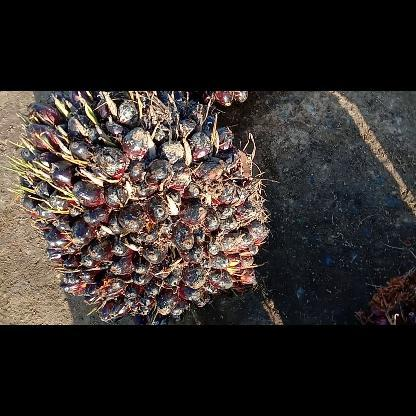TBS mentah: (14, 91, 272, 321)
